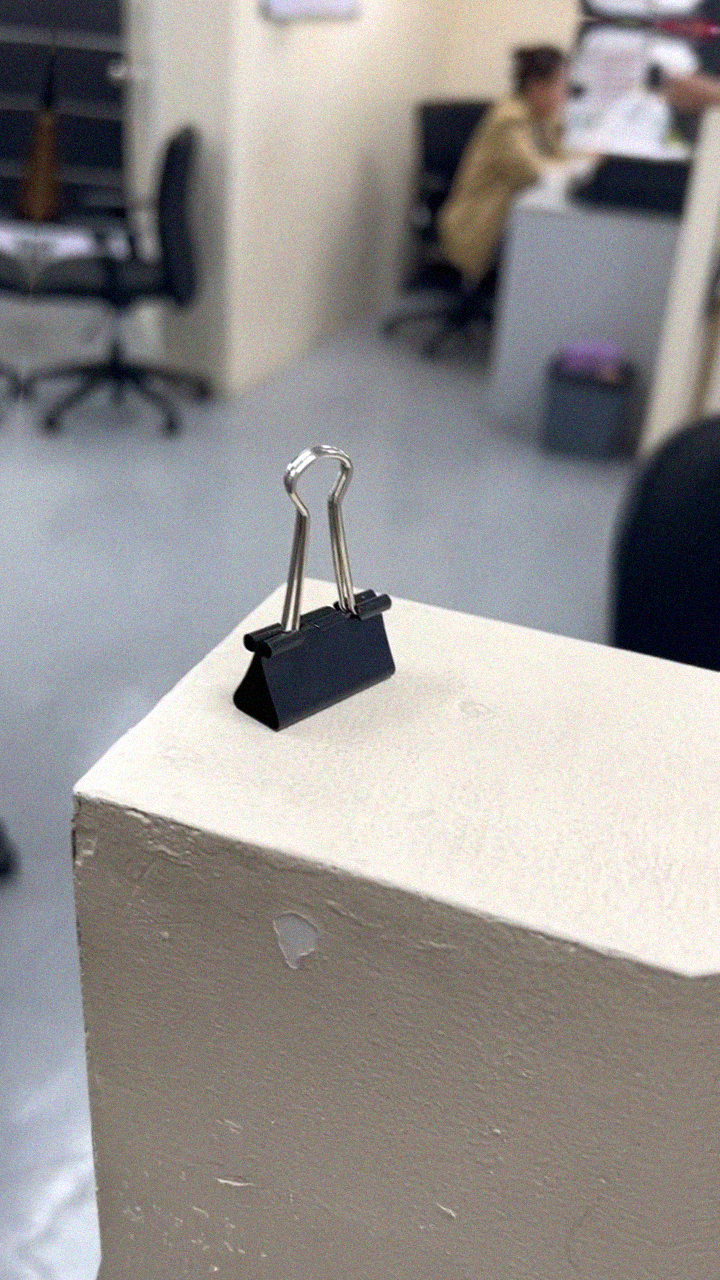kep_giay: (225, 435, 419, 746)
